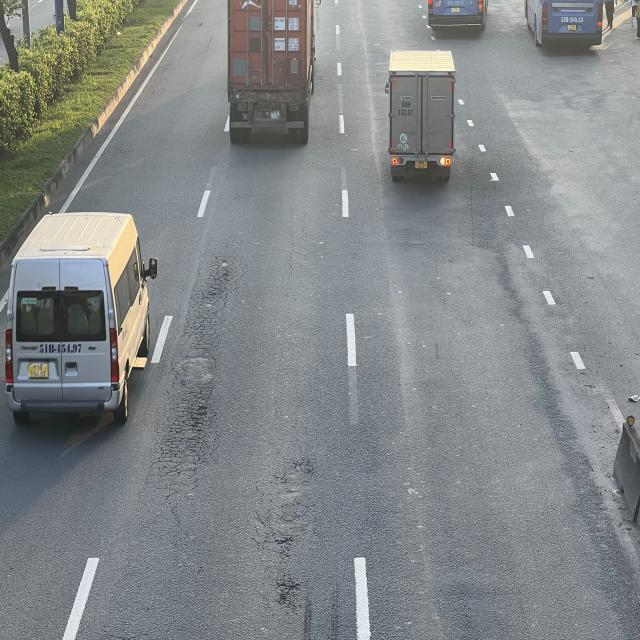coach: (525, 1, 608, 48)
container: (226, 2, 322, 150)
truck: (388, 50, 458, 178)
van: (0, 209, 153, 423)
